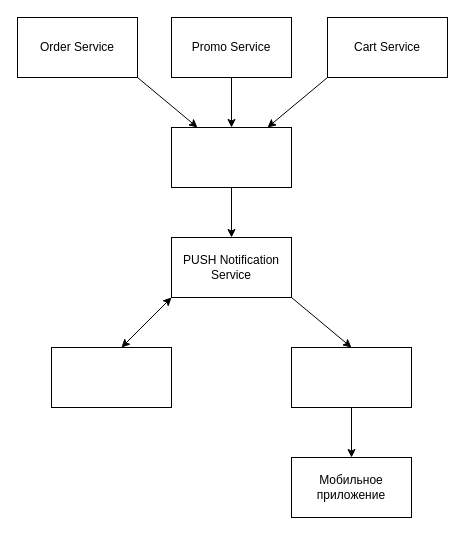
This 465x535 diagram has some shape labels left out. Each missing label, with the centre of its shape:
FCM/APN: (x=351, y=377)
Message Broker (Kafka/RabbitMQ): (x=231, y=157)
User Service: (x=111, y=377)
